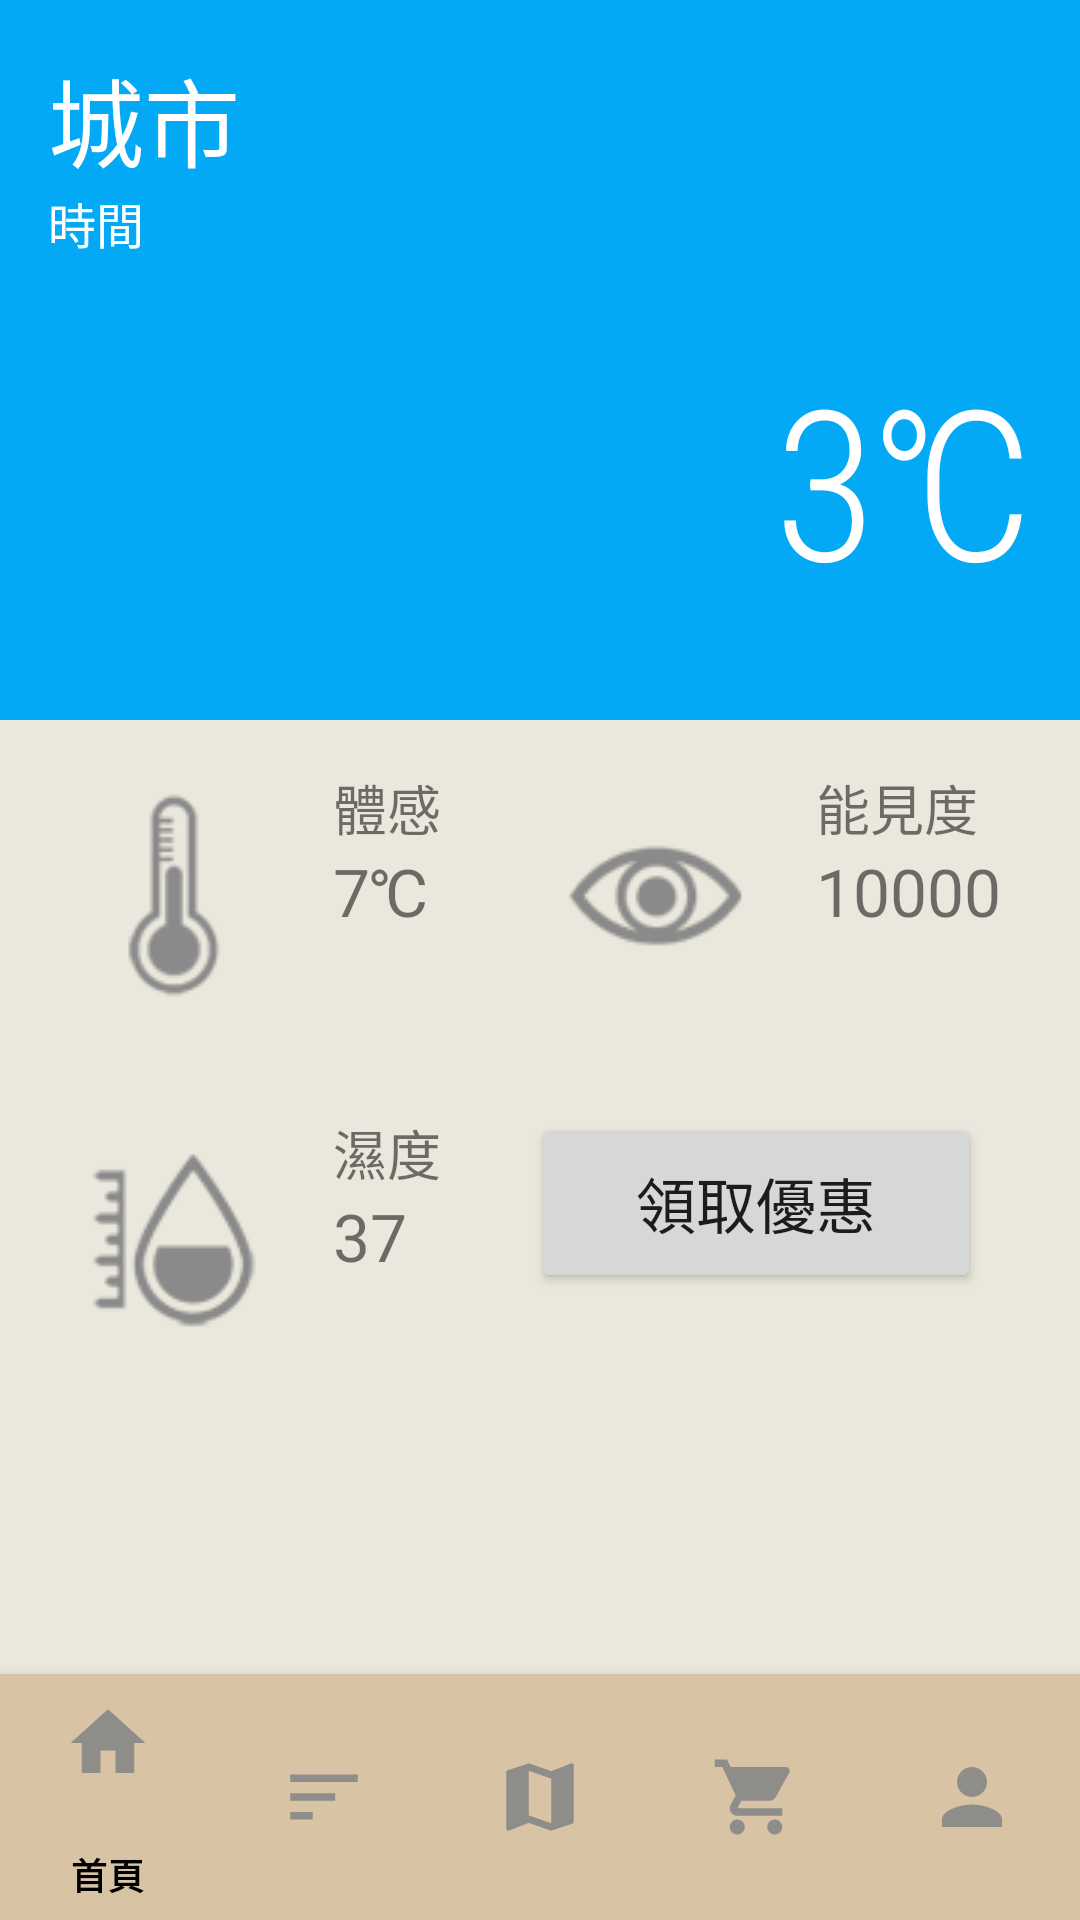

Icons on this 1080x1920 Android screen, each with the point to tap as (x,y):
humidity: (174,1240)
vision: (656,895)
